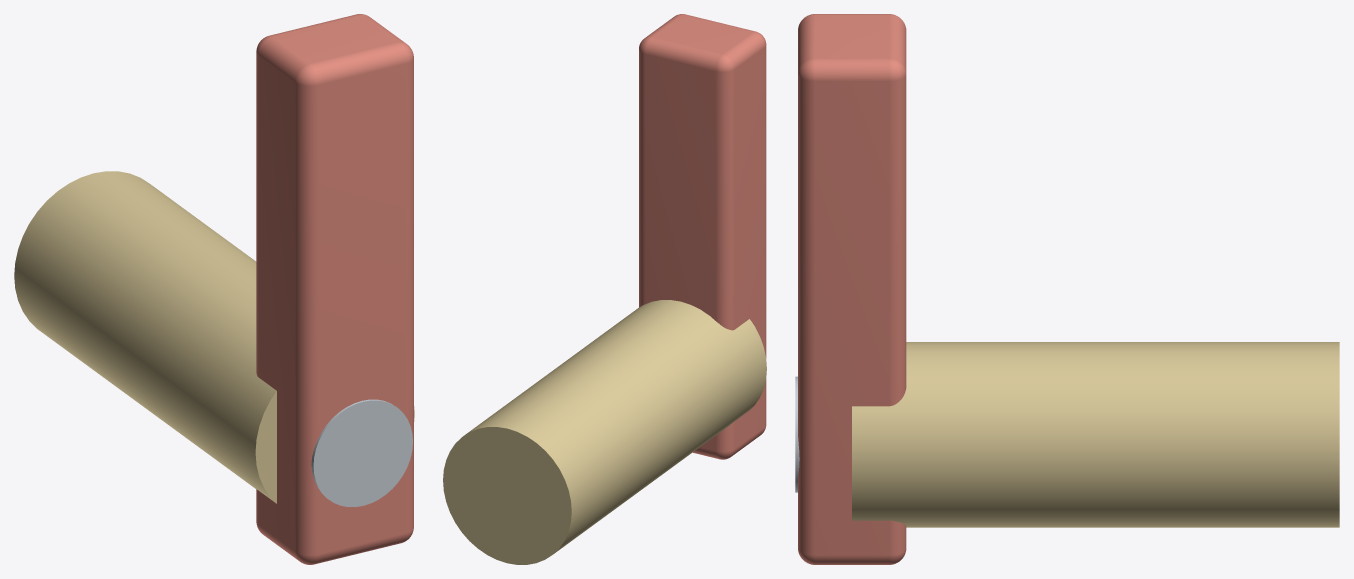
The model's file is STEM.glb.
The picture shows the model from 3 angles, left to right: view 1: azimuth 30°, elevation 25°; view 2: azimuth 150°, elevation 25°; view 3: azimuth 270°, elevation 25°; orthographic projection. The views are drawn at different scales.
Visible parts, largest first — view 1: STEM/0001_handle, STEM/0000_spindle, STEM/0002_retaining_bolt; view 2: STEM/0000_spindle, STEM/0001_handle; view 3: STEM/0000_spindle, STEM/0001_handle.
Part boxes in pixels (x1,y1,x2,y2): STEM/0001_handle: [256, 14, 413, 564]; STEM/0000_spindle: [14, 171, 414, 503]; STEM/0002_retaining_bolt: [311, 399, 412, 506]; STEM/0000_spindle: [443, 300, 766, 564]; STEM/0001_handle: [639, 14, 766, 459]; STEM/0000_spindle: [852, 342, 1339, 527]; STEM/0001_handle: [798, 14, 906, 564].
Bounding box in the file's own units: 0.032 × 0.096 × 0.0938.
